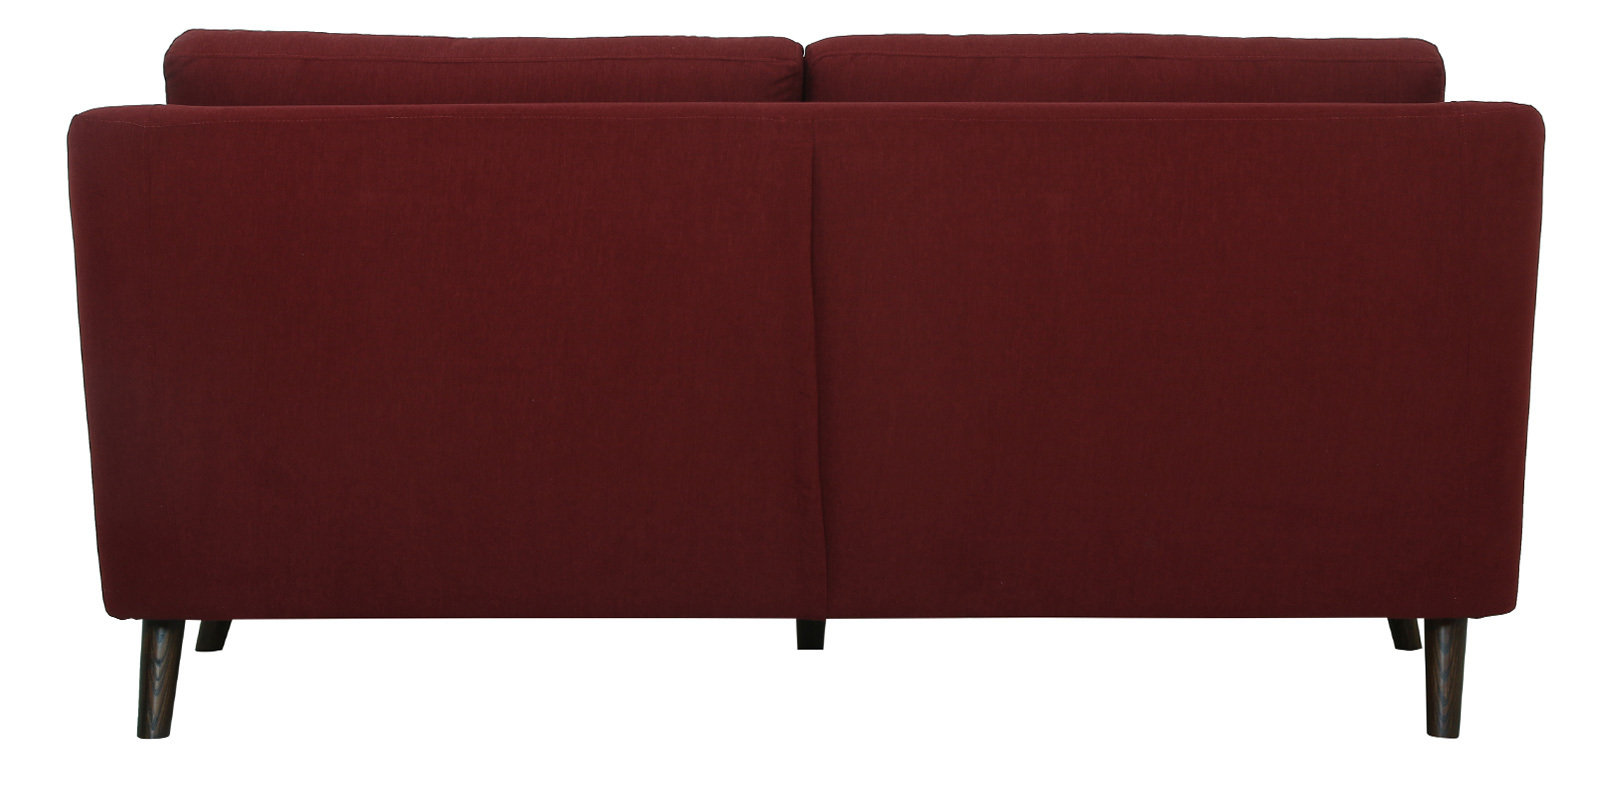Juan Three Seater Sofa in Garnet Red Colour by CasaCraft: (47, 18, 1556, 771)
